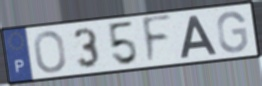3: (72, 26, 101, 69)
5: (105, 19, 141, 67)
A: (179, 14, 219, 60)
F: (141, 13, 175, 67)
G: (215, 9, 250, 54)
O: (32, 30, 68, 75)
